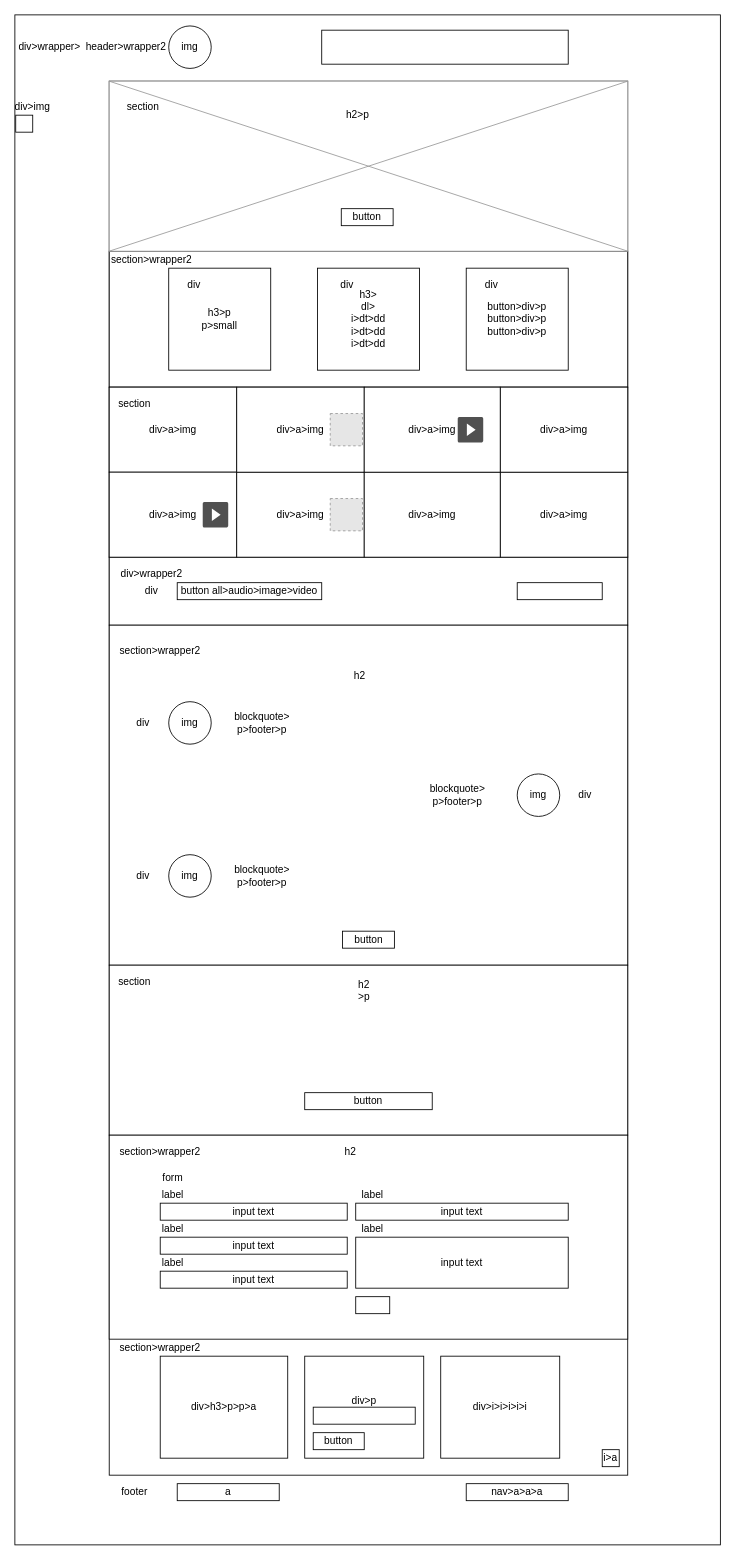
The diagram is 735 pixels wide and 1560 high, and some of its shapes have lost their labels. Grey dashed boxes stand in for pictures. Each missing label, with the centre of its shape:
button load more: the point at 559,591
form>input text: the point at 363,1415
nav>a>a>a>a>a>a: the point at 444,46
submit: the point at 372,1305
